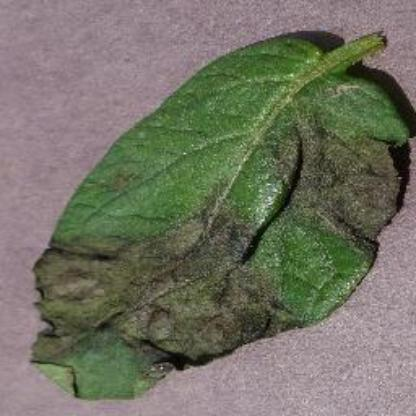Late-Blight: (23, 17, 415, 409)
